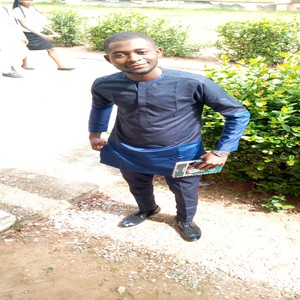Fulokoja_male_student: (93, 32, 206, 241)
